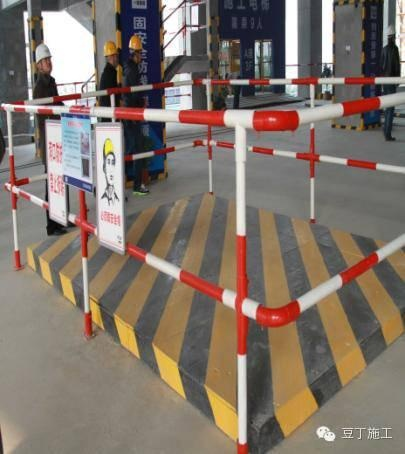white: (33, 42, 53, 75), (384, 24, 397, 43)
yellow: (101, 40, 120, 67), (127, 36, 143, 63)
